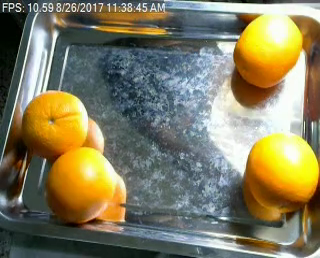Orange: (245, 133, 319, 213), (45, 146, 116, 222), (234, 12, 302, 87), (21, 88, 88, 158)
